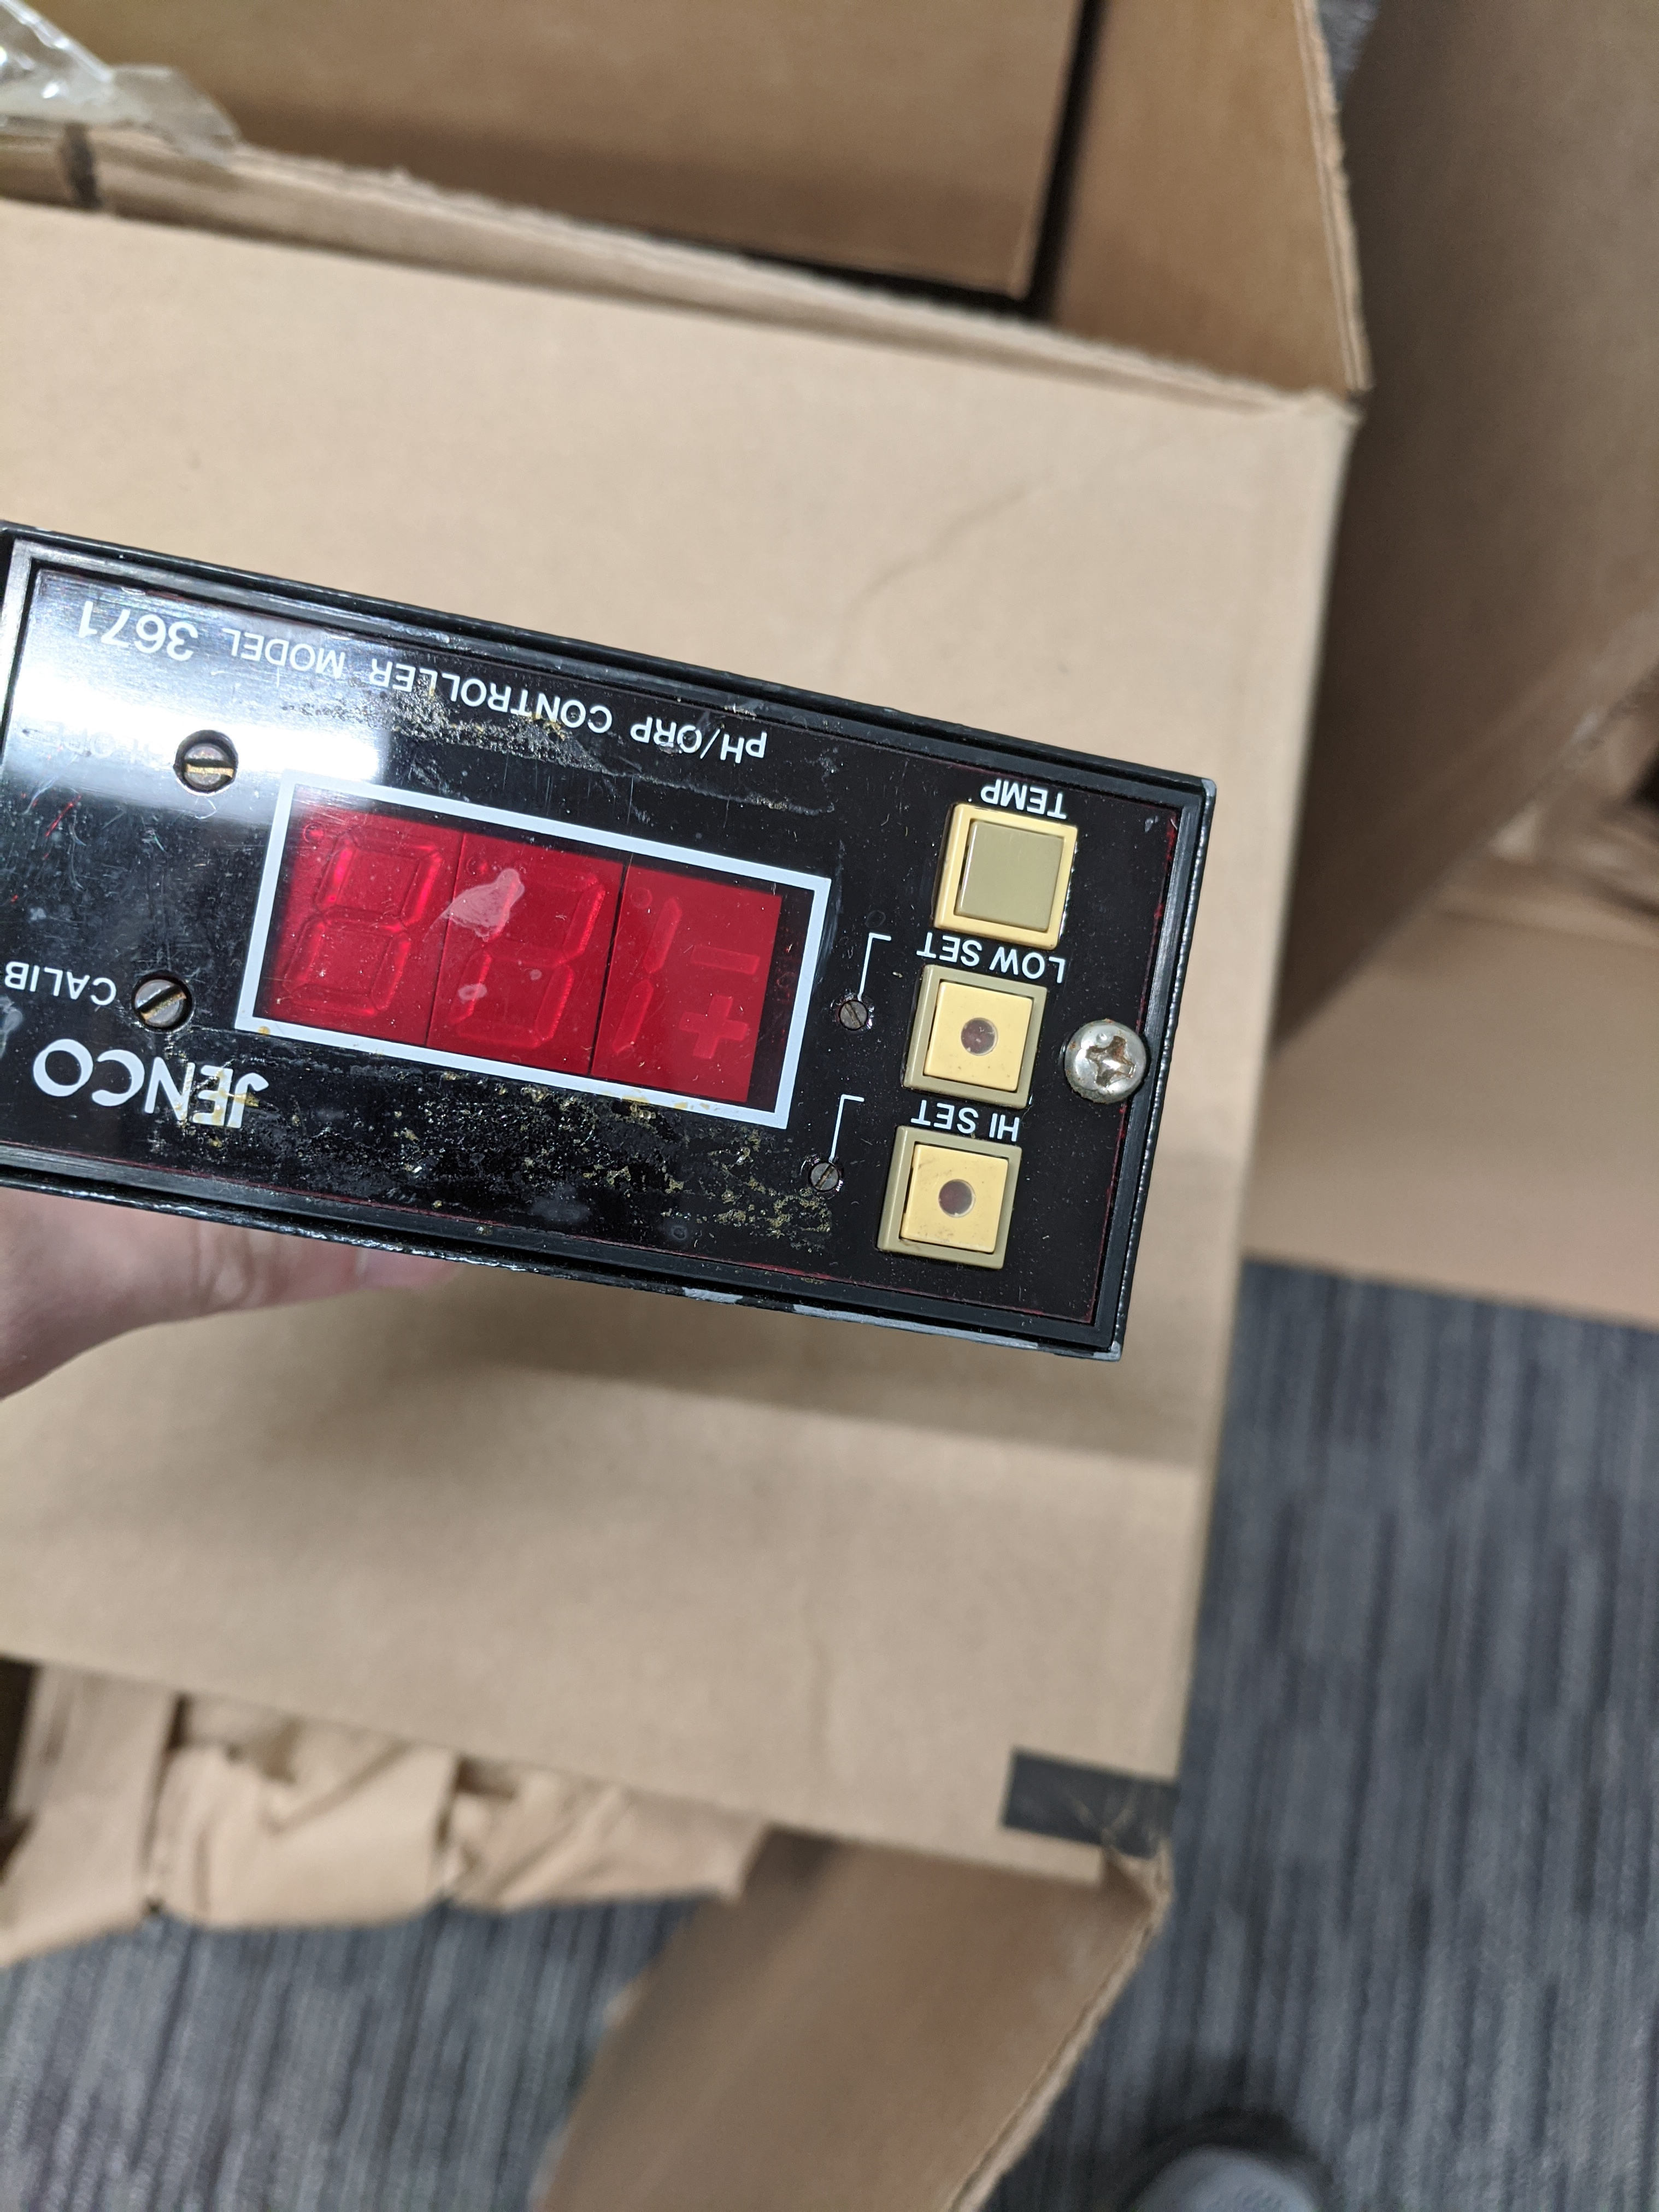cross_recessed_screw: (1061, 1001, 1152, 1111)
